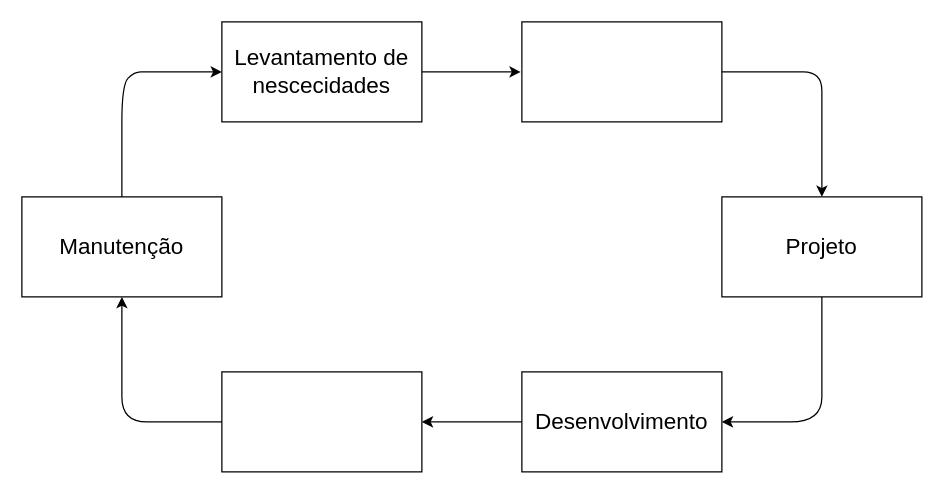
Image size: 944x494. Some labels were removed from this diagram. Here are the shapes that lost their labels. From the top down, the centre of each, then its label:
At point (621, 71): "Análise das Alternativas".
At point (321, 421): "Implementação".
